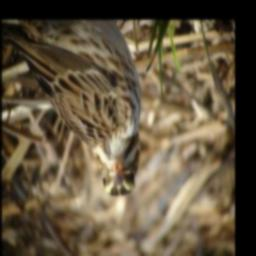Sparrow: (4, 21, 144, 198)
